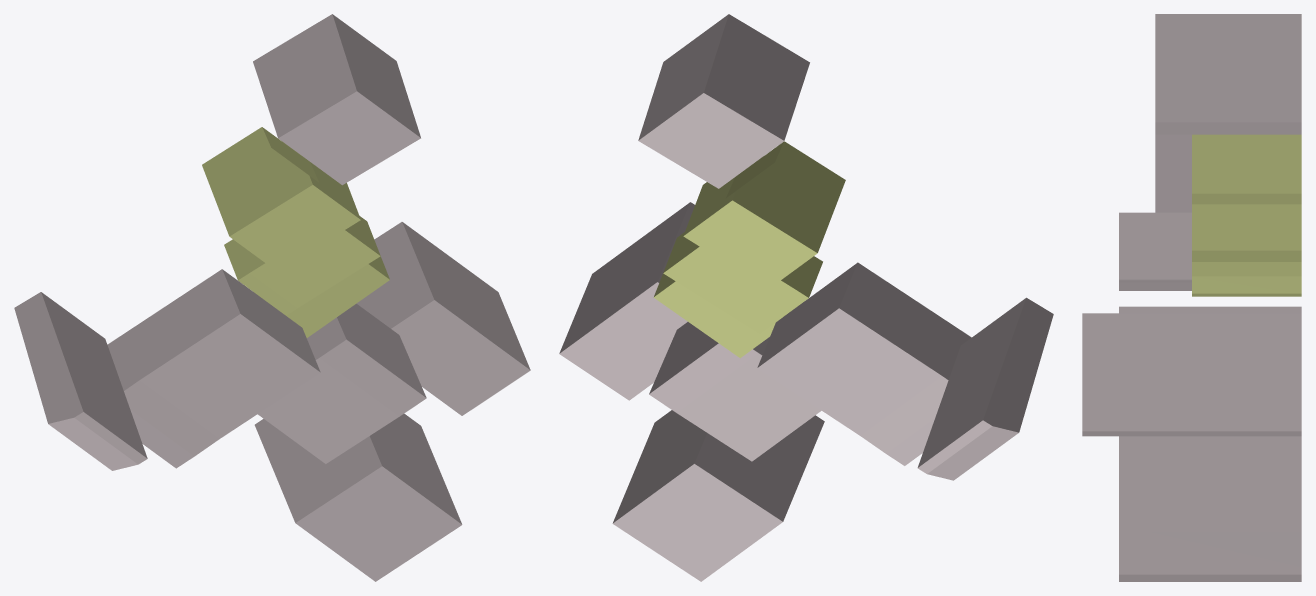
3 renders of one model, left to right at view 1: azimuth 30°, elevation 25°; view 2: azimuth 150°, elevation 25°; view 3: azimuth 270°, elevation 25°, orthographic. The views are drawn at different scales.
Visible parts, largest first — view 1: 0_1_3_2_2_1_2_2_1; view 2: 0_1_3_2_2_1_2_2_1; view 3: 0_1_3_2_2_1_2_2_1.
Boxes of the visible parts, <box> form: 0_1_3_2_2_1_2_2_1: <box>14,14,530,581</box>; 0_1_3_2_2_1_2_2_1: <box>559,14,1053,581</box>; 0_1_3_2_2_1_2_2_1: <box>1082,14,1301,581</box>.
Size of the model in its own units: 45.33 by 51.56 by 18.
